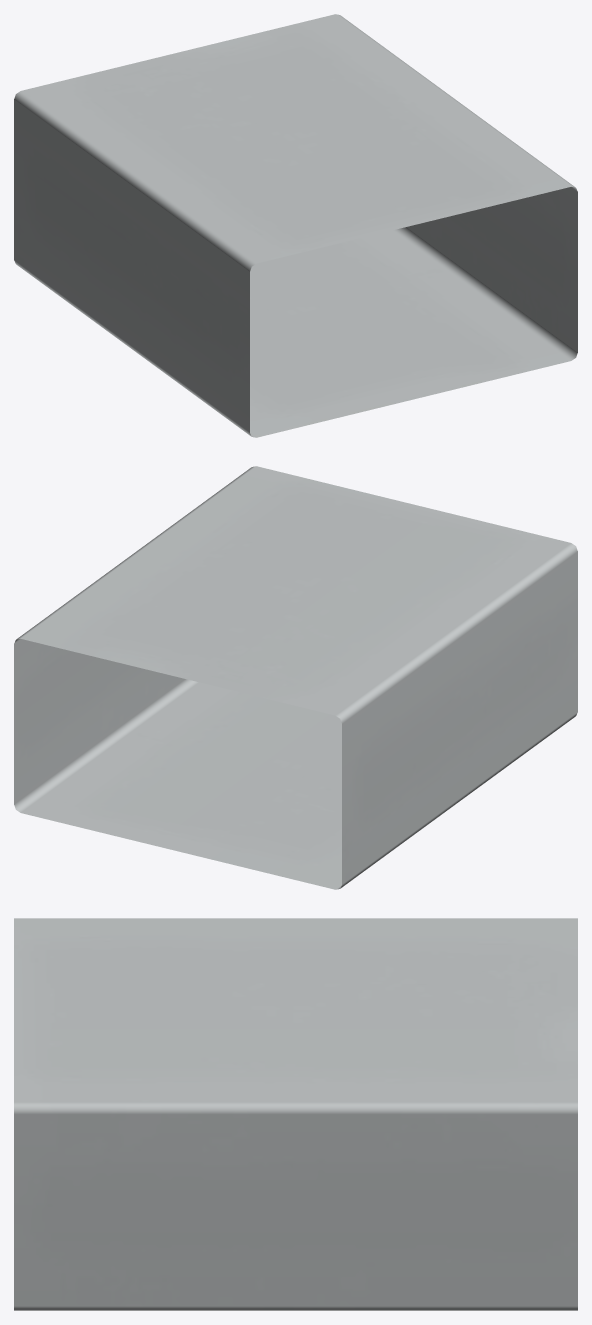
The picture shows the model from 3 angles, top to bottom: view 1: azimuth 30°, elevation 25°; view 2: azimuth 150°, elevation 25°; view 3: azimuth 270°, elevation 25°; orthographic projection. The views are drawn at different scales.
Visible parts, largest first — view 1: air_duct_I; view 2: air_duct_I; view 3: air_duct_I.
Part boxes in pixels (bbox=[...]): air_duct_I: bbox=[14, 14, 577, 437]; air_duct_I: bbox=[14, 466, 577, 889]; air_duct_I: bbox=[14, 918, 577, 1310].
Size of the model in its own units: 2.37 by 1.2 by 2.94.
1 material, 1 textured.
